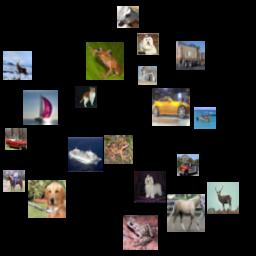automobile: (152, 88, 190, 126), (5, 128, 27, 150)
cat: (75, 86, 97, 108), (138, 66, 157, 85)
deer: (207, 182, 239, 214), (3, 51, 32, 80)
dog: (28, 180, 66, 218), (134, 171, 166, 203), (137, 33, 159, 55)
frog: (86, 42, 124, 80), (123, 215, 158, 250), (104, 135, 133, 164)
ship: (68, 137, 103, 172), (23, 90, 58, 125), (194, 107, 216, 129)
truck: (176, 41, 205, 70), (177, 154, 199, 176)
